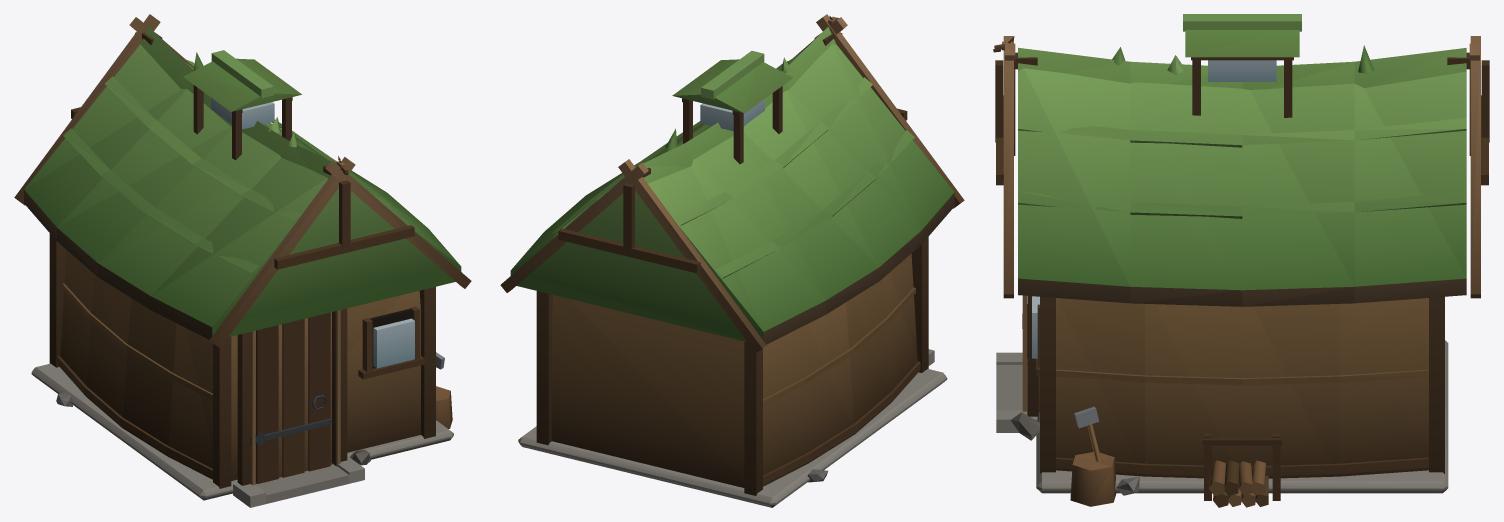
File: turf-dwelling.glb
3 views of the same model, side by side, from view 1: azimuth 30°, elevation 25°; view 2: azimuth 150°, elevation 25°; view 3: azimuth 270°, elevation 25° (orthographic). The views are drawn at different scales.
Visible parts, largest first — view 1: turf_dwelling; view 2: turf_dwelling; view 3: turf_dwelling.
Part boxes in pixels (x1,y1,x2,y2): turf_dwelling: (14, 14, 471, 507); turf_dwelling: (500, 14, 964, 507); turf_dwelling: (993, 14, 1489, 507).
Size of the model in its own units: 3.61 by 3.91 by 4.34.
